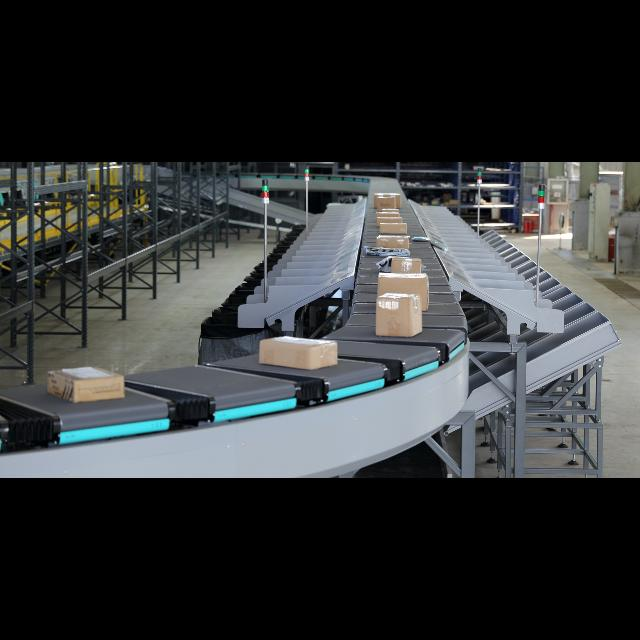box: (47, 366, 125, 404), (258, 336, 338, 369), (376, 294, 424, 338), (376, 272, 429, 310), (378, 234, 410, 250), (390, 258, 420, 272), (379, 222, 406, 234), (379, 216, 403, 224), (378, 198, 394, 210)
mailer: (366, 246, 408, 256)
